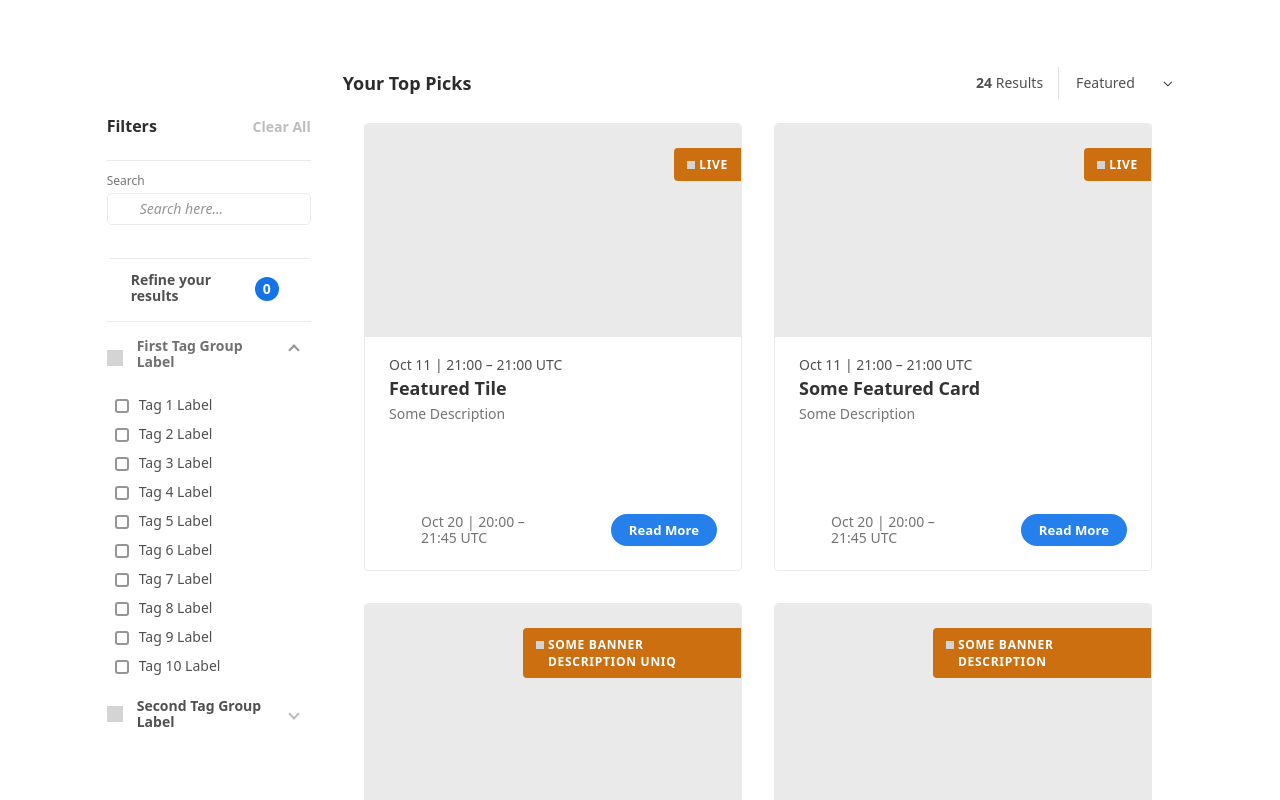
Consonant/Container/Sort Popup › should be able to sort by date ascending
The width and height of the screenshot is (1280, 800).
# Gets The Sort Popup input
Step 1. Click the button with test id "select-button" → (1124, 83), box [1075,67,1173,99]
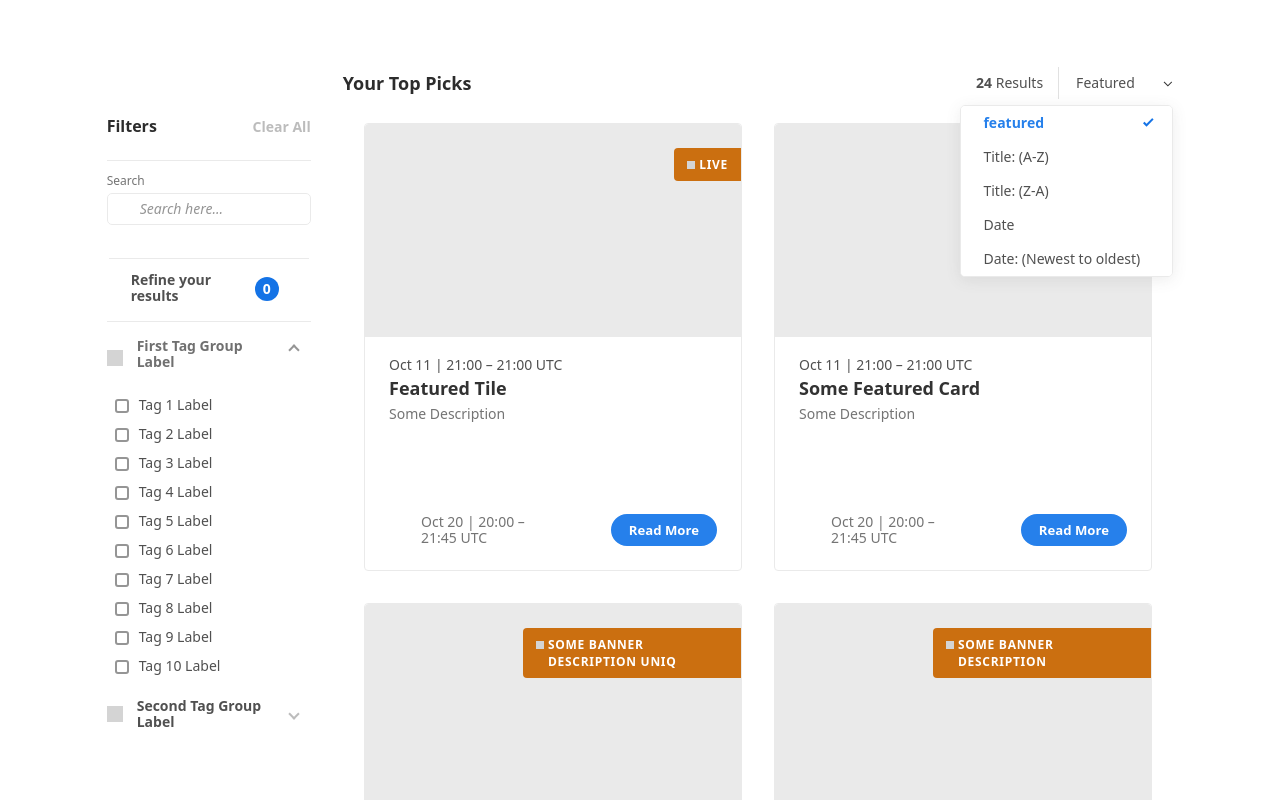
Step 2. Click the button "Date" → (1067, 225), box [961,208,1172,242]
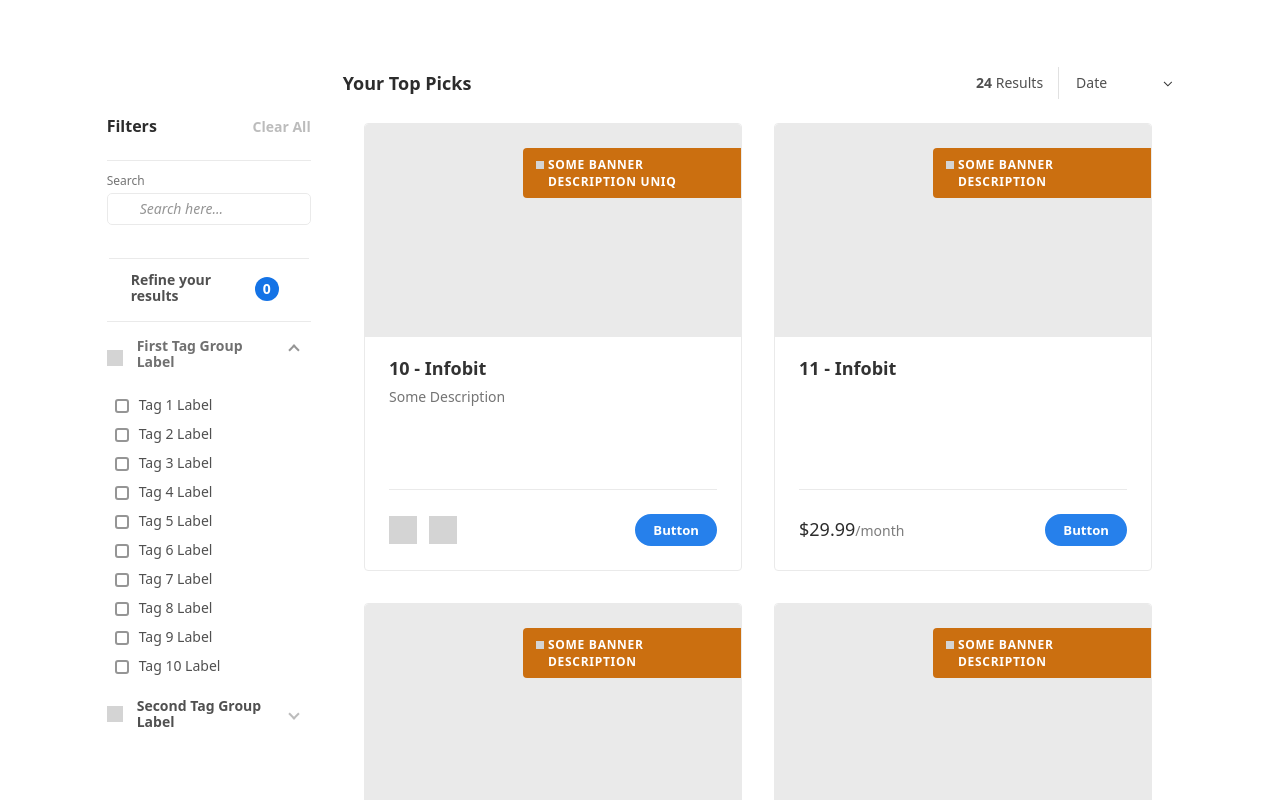
Check: the button with test id "select-button" reads "Date", box [1075,67,1173,99]
